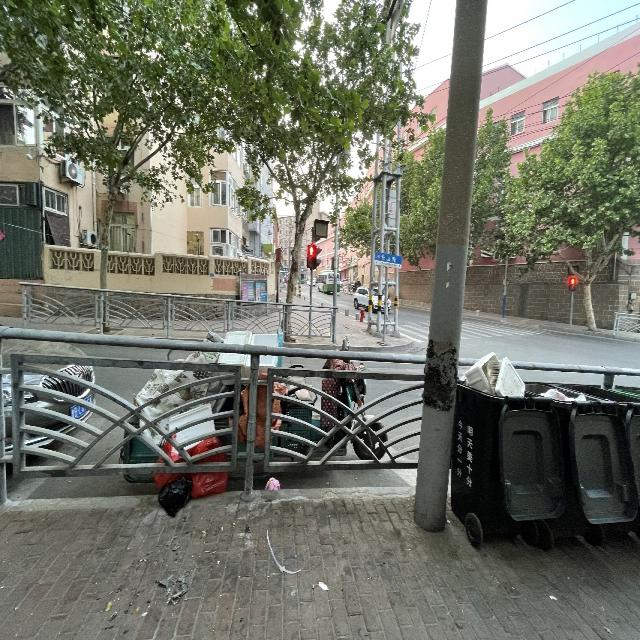garbage_bin: (525, 382, 639, 540)
overflow: (452, 350, 564, 540)
